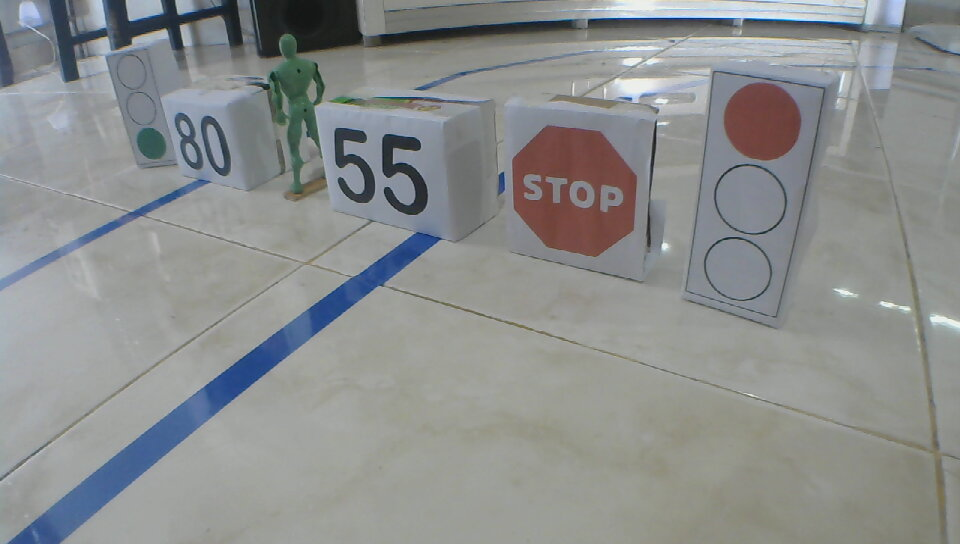Green Light: (110, 54, 167, 162)
Person: (268, 32, 325, 195)
Red Light: (701, 83, 803, 306)
Speed 55: (331, 125, 432, 221)
Speed 80: (172, 111, 235, 178)
Stop: (511, 122, 639, 260)
